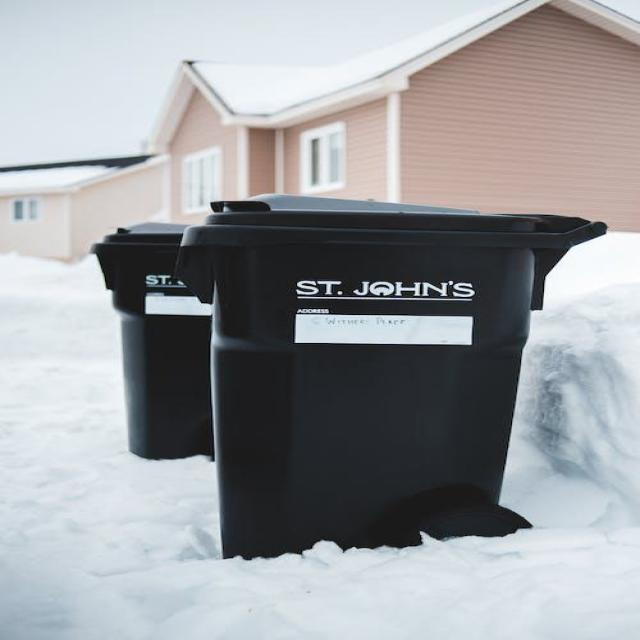plastic: (168, 197, 581, 560)
